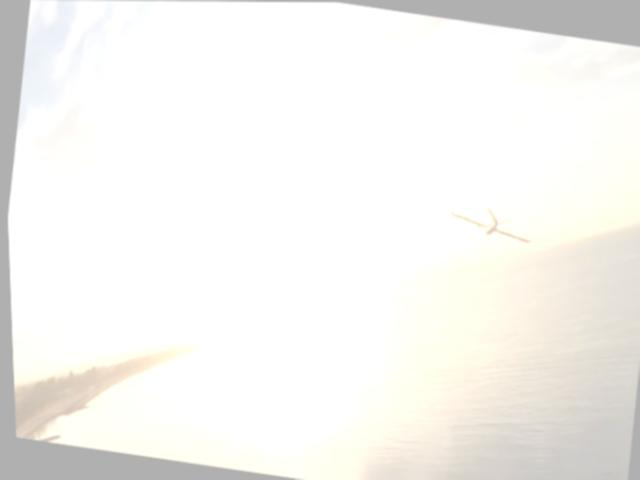uav: (440, 201, 536, 248)
